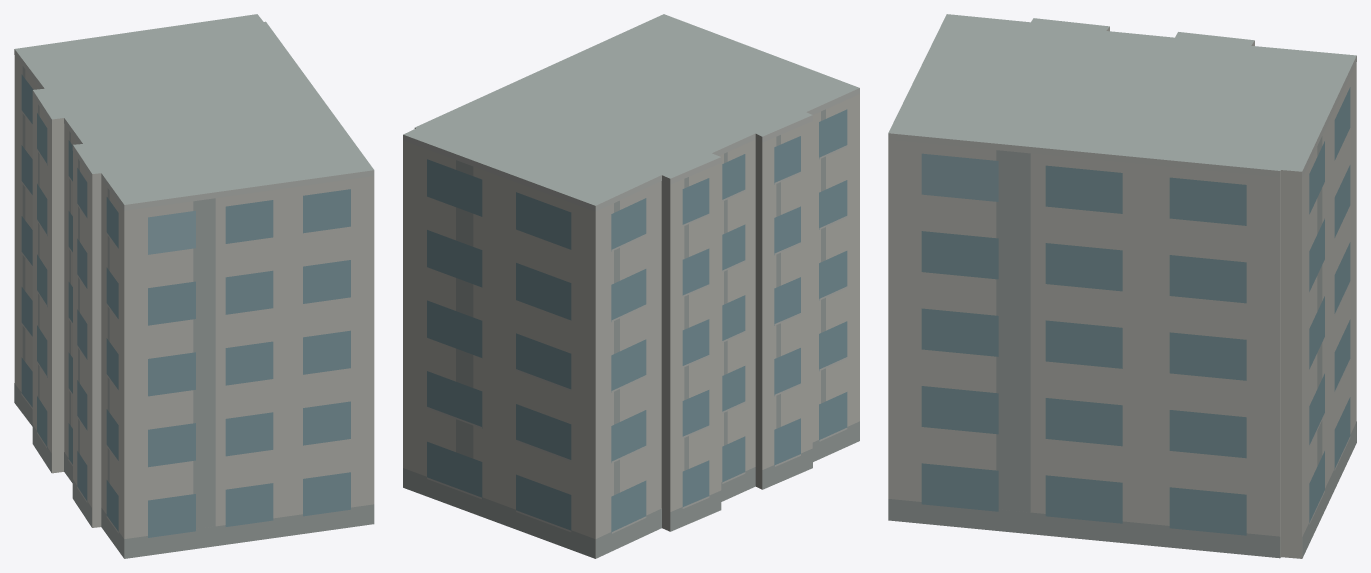
Rendered from survey-upis-32893392.glb.
3 views of the same model, side by side, from view 1: azimuth 30°, elevation 25°; view 2: azimuth 150°, elevation 25°; view 3: azimuth 270°, elevation 25° (orthographic). The views are drawn at different scales.
Parts seen in each view (by area): view 1: survey-upis-32893392.tmp; view 2: survey-upis-32893392.tmp; view 3: survey-upis-32893392.tmp.
Boxes of the visible parts, x1,y1,x2,y2 form: survey-upis-32893392.tmp: [14, 14, 374, 558]; survey-upis-32893392.tmp: [403, 14, 859, 558]; survey-upis-32893392.tmp: [888, 14, 1356, 558].
Bounding box in the file's own units: 12.72 × 14.55 × 15.97.
